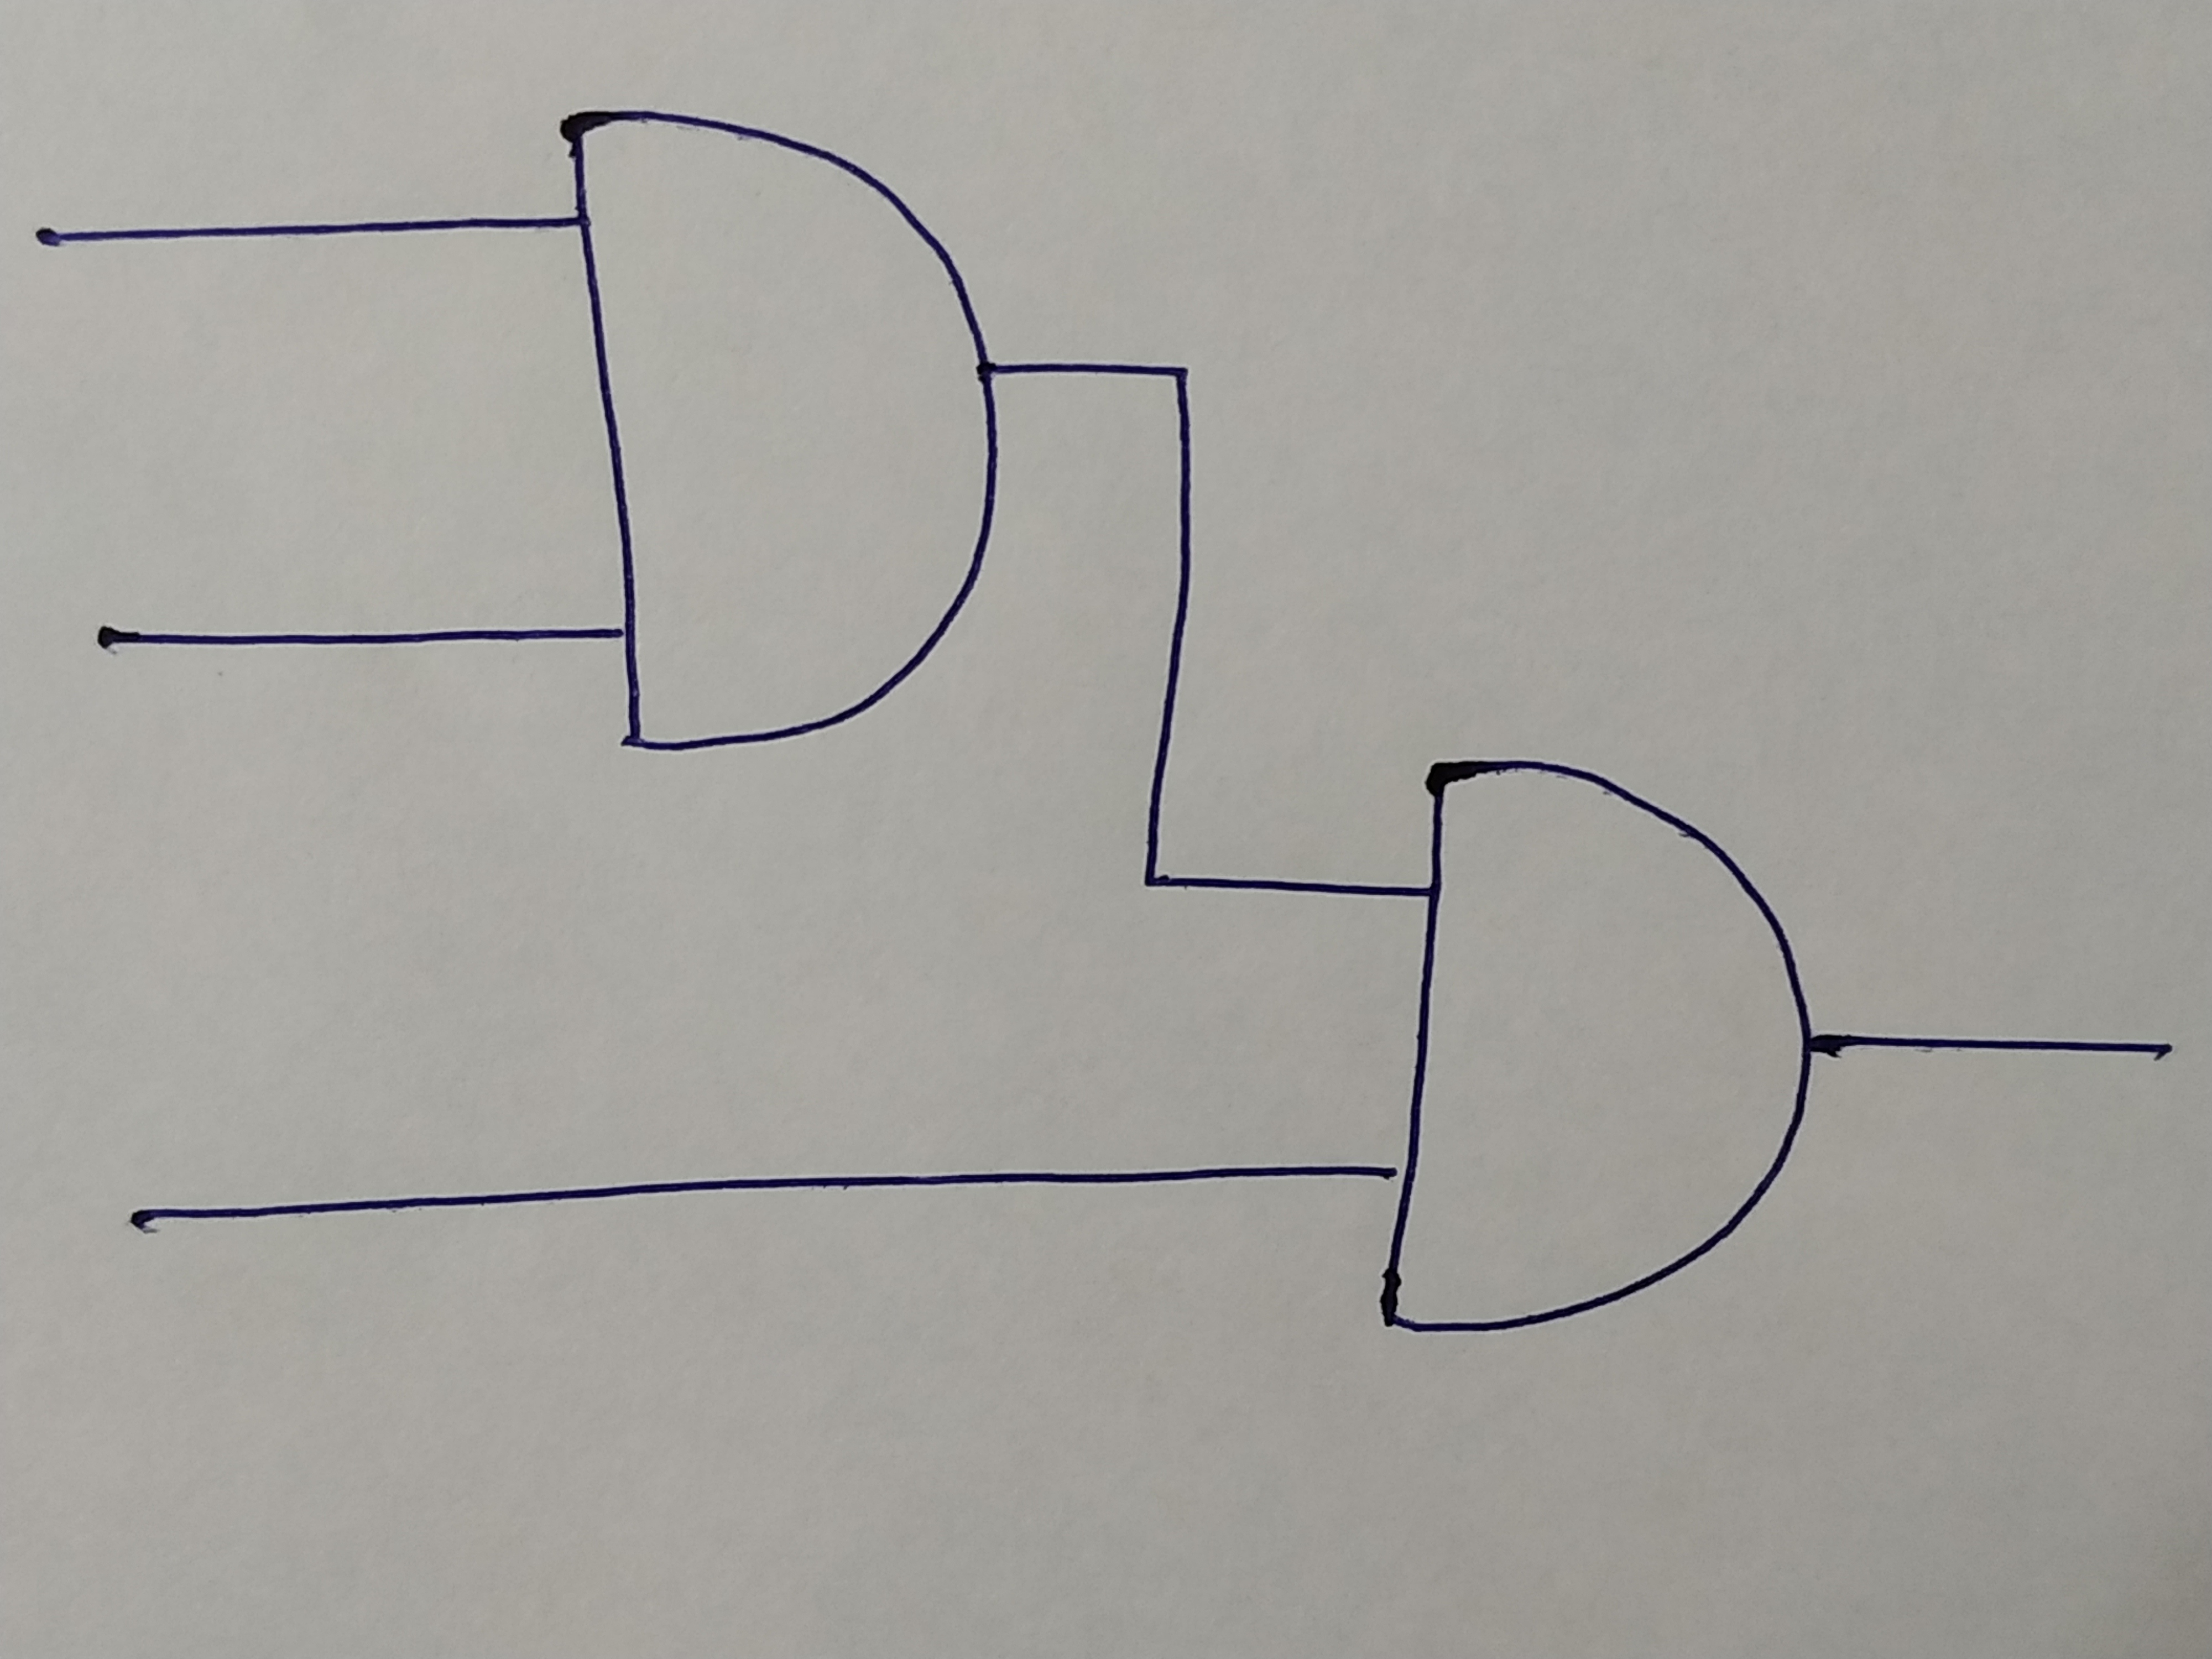and: (549, 106, 991, 748), (1378, 758, 1804, 1326)
